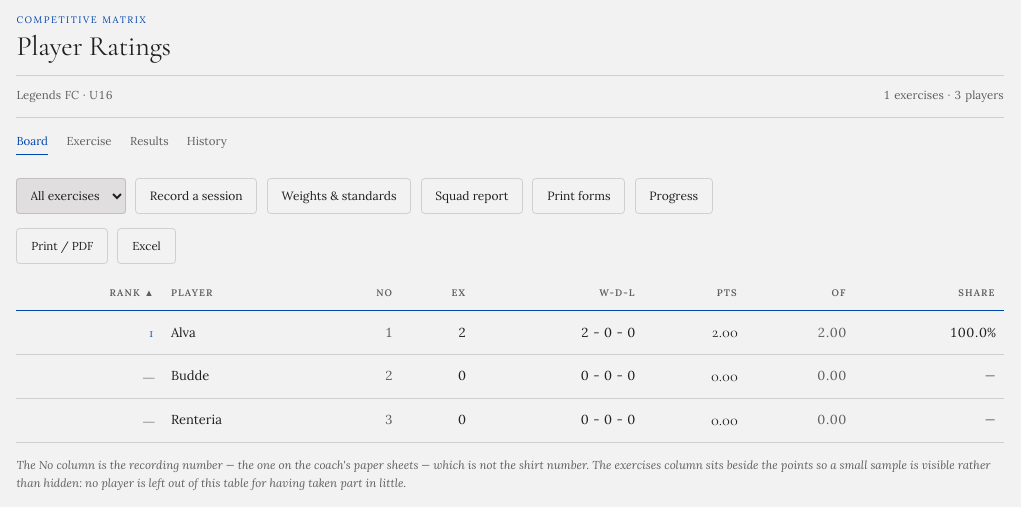
the results panel › marks the winner rather than leaving a reader to decode a and b
The width and height of the screenshot is (1021, 507).
Click the button "Results": (149, 144) x1=130 y1=132 x2=168 y2=155
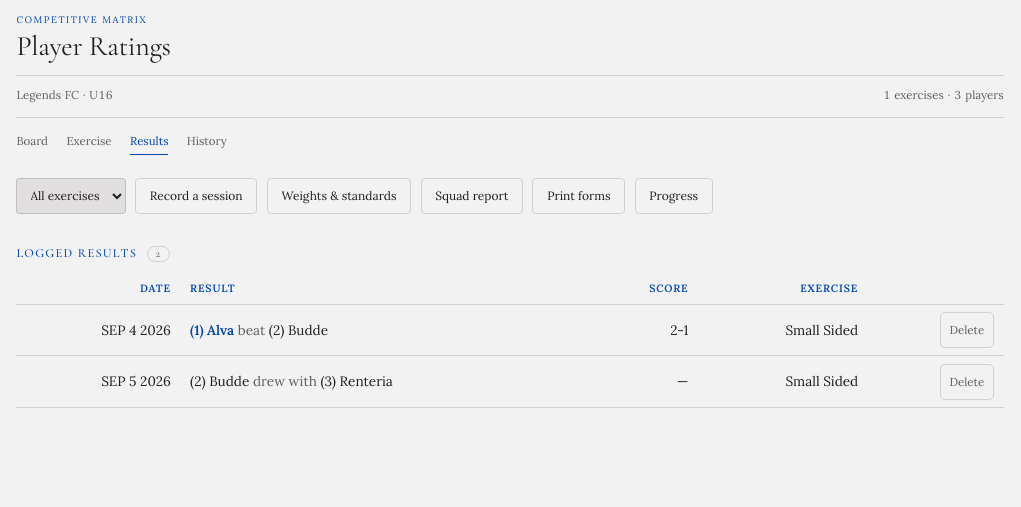
expect the row "SEP 4 2026 (1) Alva beat (2) Budde 2-1 Small Sided Delete" is shown: met, box x1=16 y1=304 x2=1004 y2=356
expect the text with class "won" shows "Alva": met, box x1=190 y1=321 x2=234 y2=339
